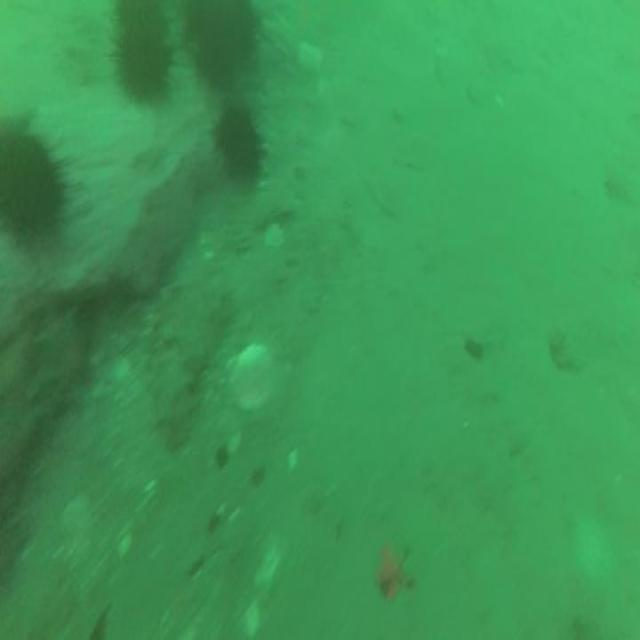echinus: (0, 136, 60, 250), (185, 3, 258, 89), (117, 18, 170, 100), (212, 108, 260, 180)
scallop: (226, 340, 279, 411)
starfish: (376, 539, 412, 604)
